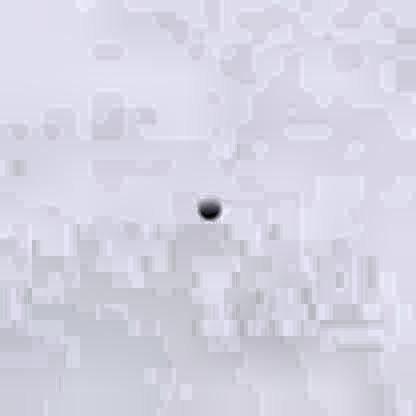golfball: (193, 195, 221, 220)
